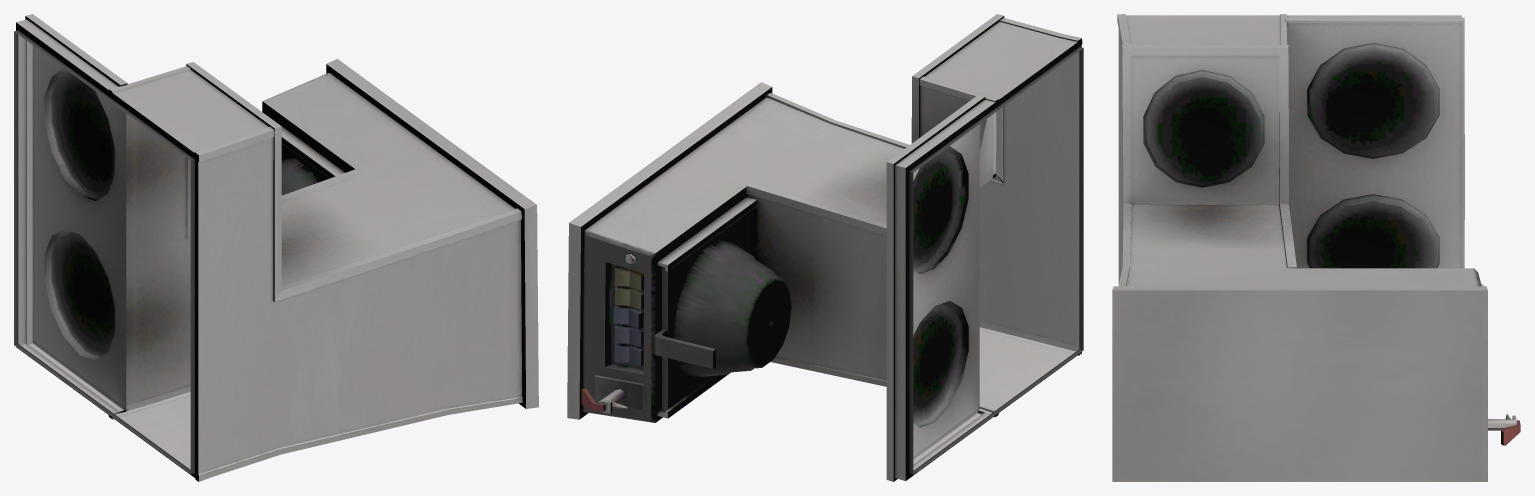
File: props_2fort_coffeemachine.glb
3 views of the same model, side by side, from view 1: azimuth 30°, elevation 25°; view 2: azimuth 150°, elevation 25°; view 3: azimuth 270°, elevation 25° (orthographic). The views are drawn at different scales.
Visible parts, largest first — view 1: models/props_2fort/coffeemachine; view 2: models/props_2fort/coffeemachine; view 3: models/props_2fort/coffeemachine.
Part boxes in pixels (x1=…): models/props_2fort/coffeemachine: x1=14, y1=14, x2=538, y2=481; models/props_2fort/coffeemachine: x1=567, y1=14, x2=1083, y2=481; models/props_2fort/coffeemachine: x1=1112, y1=14, x2=1520, y2=481.
Size of the model in its own units: 35.72 by 33.75 by 39.22.
Materials: 1 (1 with a texture image).
